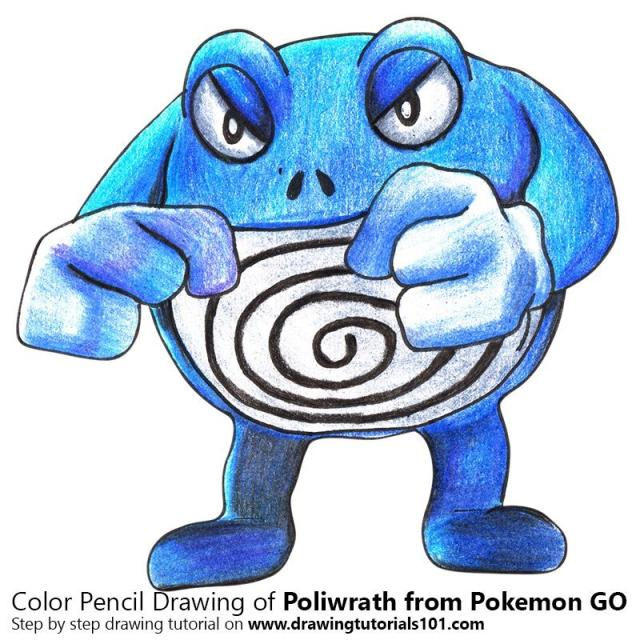Poliwrath: (41, 34, 586, 576)
